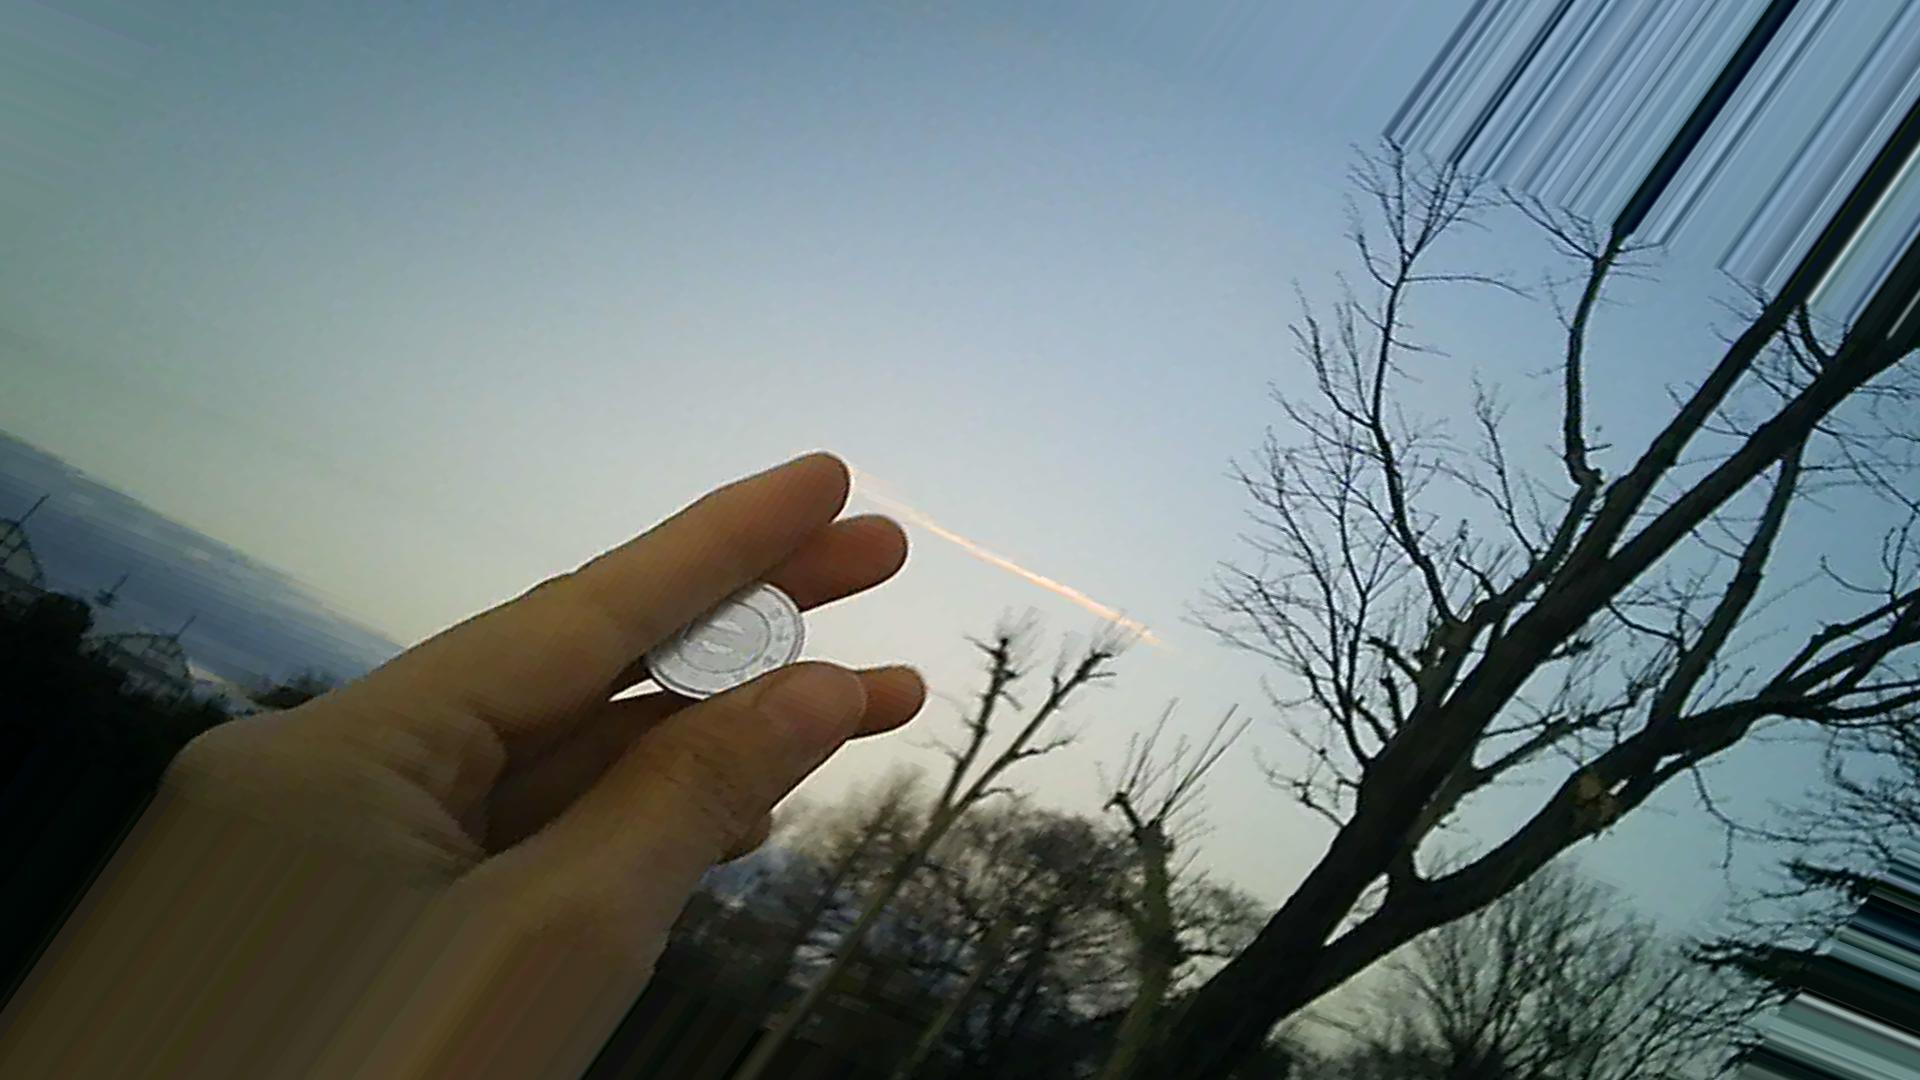1 Yen: (633, 549, 825, 705)
